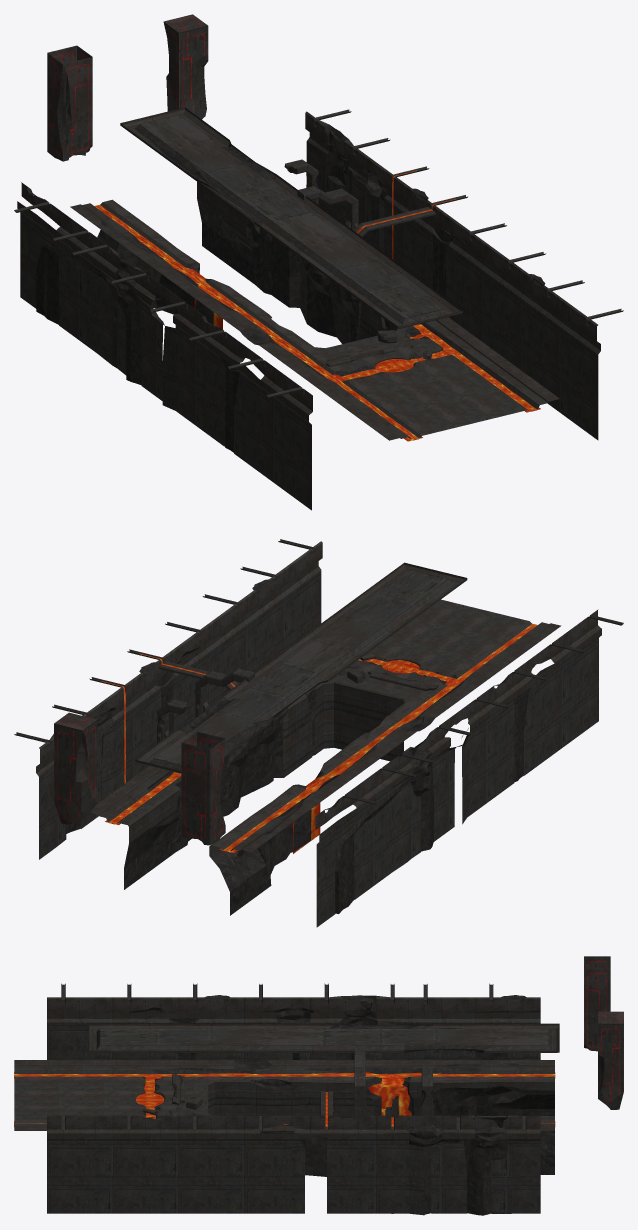
Rendered from ts_bosszhan001.FBX.
3 views of the same model, one above another, from view 1: azimuth 30°, elevation 25°; view 2: azimuth 150°, elevation 25°; view 3: azimuth 270°, elevation 25° (orthographic). The views are drawn at different scales.
Visible parts, largest first — view 1: ts_bosz_wall01, ts_bosz_wall05, ts_bosz_wall03, ts_bosz_wall18, ts_bosz_wall04, ts_bosz_wall02, ts_bosz_wall17, ts_bosz_wall19, ts_bosz_wall24, ts_bosz_wall20, ts_bosz_wall21, ts_bosz_wall23 (+2 smaller); view 2: ts_bosz_wall01, ts_bosz_wall03, ts_bosz_wall05, ts_bosz_wall18, ts_bosz_wall04, ts_bosz_wall21, ts_bosz_wall17, ts_bosz_wall02, ts_bosz_wall19, ts_bosz_wall20, ts_bosz_wall24, ts_bosz_wall23 (+3 smaller); view 3: ts_bosz_wall01, ts_bosz_wall05, ts_bosz_wall03, ts_bosz_wall18, ts_bosz_wall02, ts_bosz_wall04, ts_bosz_wall21, ts_bosz_wall17, ts_bosz_wall24, ts_bosz_wall20, ts_bosz_wall19, ts_bosz_wall23 (+2 smaller).
Part boxes in pixels (x1,y1,x2,y2): ts_bosz_wall01: (14,109,623,510); ts_bosz_wall05: (103,189,526,435); ts_bosz_wall03: (89,198,443,379); ts_bosz_wall18: (140,115,442,318); ts_bosz_wall04: (70,202,559,440); ts_bosz_wall02: (26,125,545,452); ts_bosz_wall17: (120,107,462,328); ts_bosz_wall19: (47,45,92,161); ts_bosz_wall24: (94,205,540,441); ts_bosz_wall20: (163,14,208,119); ts_bosz_wall21: (197,181,415,372); ts_bosz_wall23: (136,130,276,226); ts_bosz_wall01: (14,539,623,927); ts_bosz_wall03: (124,662,468,915); ts_bosz_wall05: (118,599,529,847); ts_bosz_wall18: (154,570,447,764); ts_bosz_wall04: (90,621,561,852); ts_bosz_wall21: (128,657,421,855); ts_bosz_wall17: (135,562,467,773); ts_bosz_wall02: (66,579,531,913); ts_bosz_wall19: (181,731,225,845); ts_bosz_wall20: (54,712,97,824); ts_bosz_wall24: (105,623,537,853); ts_bosz_wall23: (178,680,327,753); ts_bosz_wall01: (47,983,540,1215); ts_bosz_wall05: (14,1076,554,1119); ts_bosz_wall03: (140,1060,554,1176); ts_bosz_wall18: (99,1029,548,1044); ts_bosz_wall02: (129,995,540,1215); ts_bosz_wall04: (14,1060,554,1130); ts_bosz_wall21: (134,1080,554,1133); ts_bosz_wall17: (89,1023,559,1052); ts_bosz_wall24: (14,1072,555,1126); ts_bosz_wall20: (598,1011,623,1109); ts_bosz_wall19: (584,956,610,1051); ts_bosz_wall23: (328,1024,494,1052).
Bounding box in the file's own units: 121 × 65.47 × 213.
